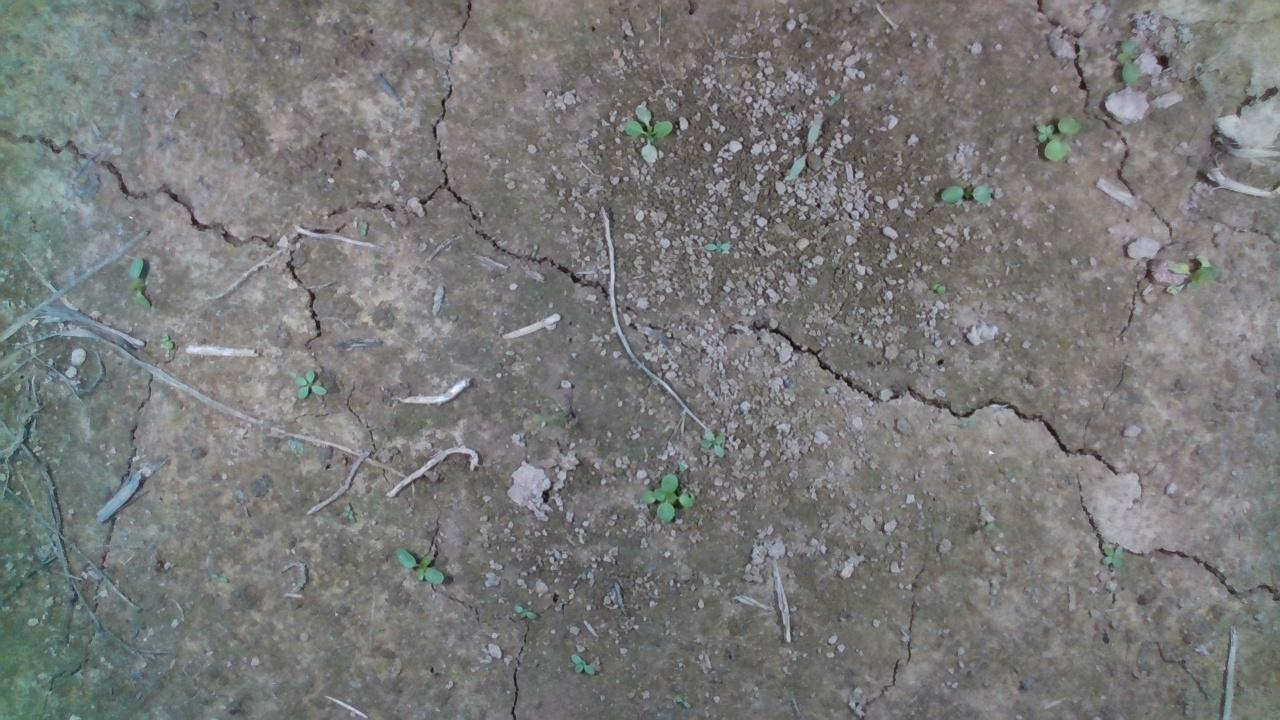weed: (622, 106, 674, 164), (640, 468, 694, 523), (1031, 114, 1083, 162), (390, 543, 444, 579), (127, 254, 152, 311), (1115, 37, 1144, 83), (289, 368, 326, 401), (938, 181, 994, 202), (700, 432, 727, 455)
